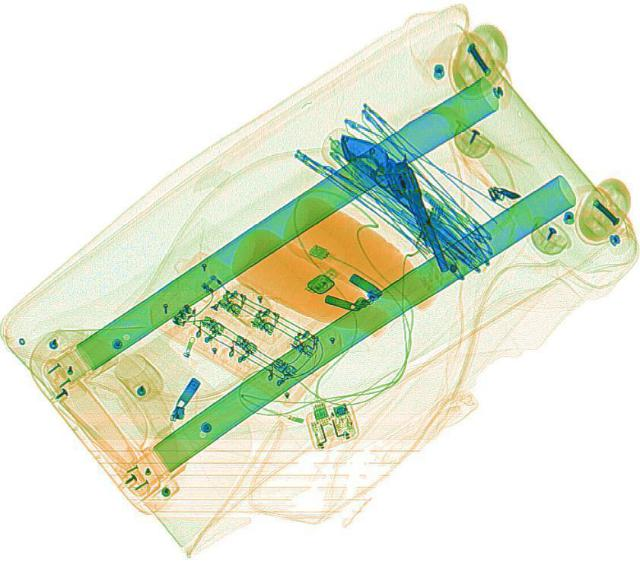Gun: (334, 119, 450, 283)
